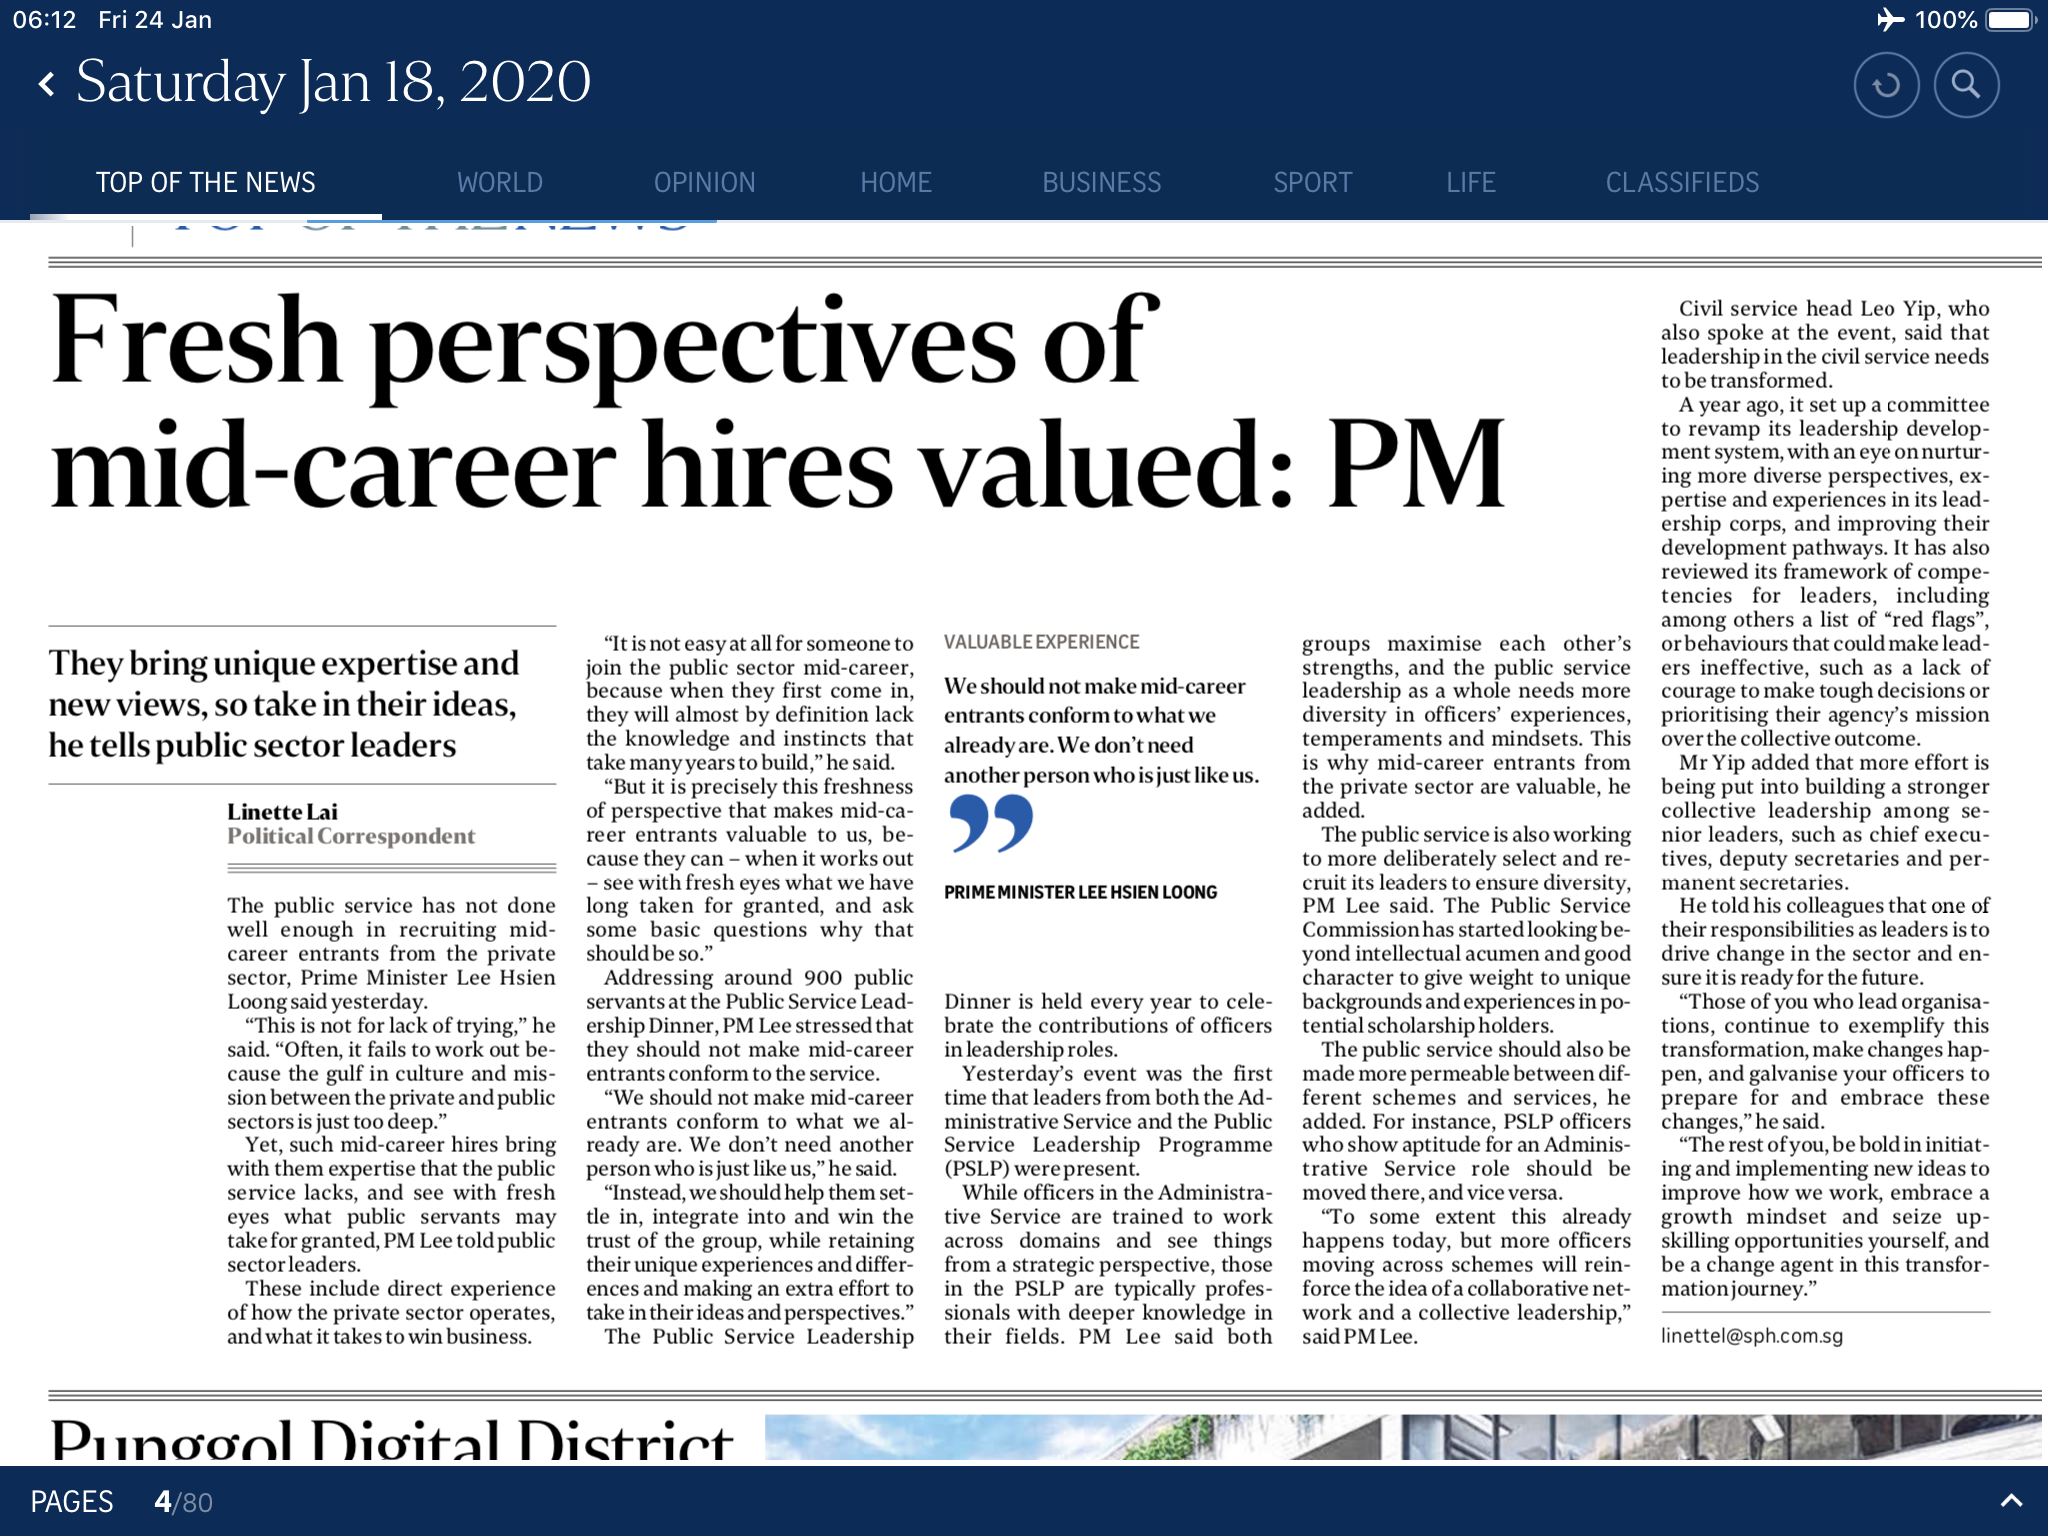Headline: (29, 274, 1532, 536), (34, 634, 543, 770)
